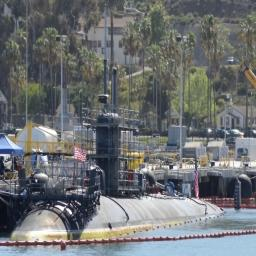submarine: (12, 115, 224, 243)
